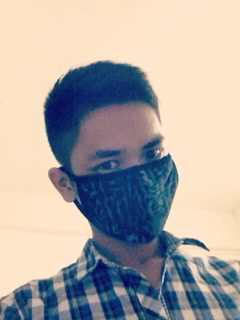face_mask: (73, 102, 168, 236)
